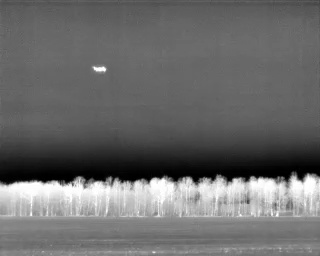DRONE: (89, 61, 111, 78)
